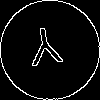Y: (25, 25, 66, 76)
